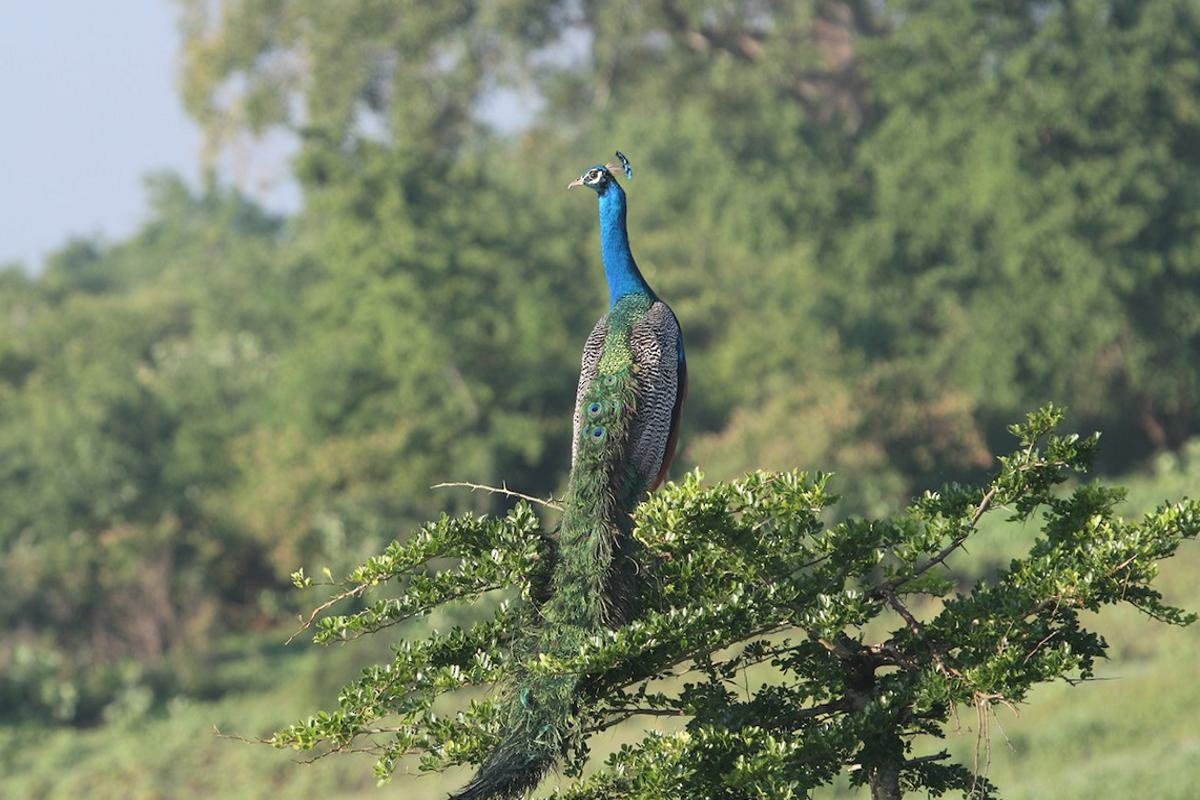peacock: (535, 130, 739, 630)
